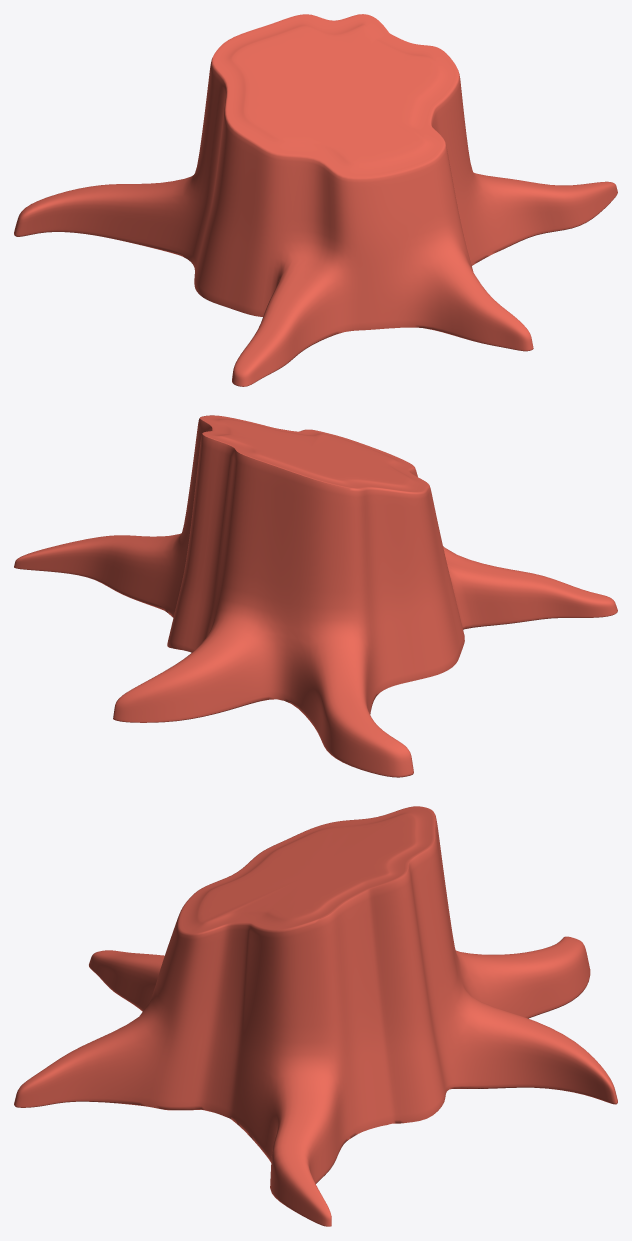
Rendered from Tronco1.fbx.
The picture shows the model from 3 angles, top to bottom: view 1: azimuth 30°, elevation 25°; view 2: azimuth 150°, elevation 25°; view 3: azimuth 270°, elevation 25°; orthographic projection. The views are drawn at different scales.
Parts seen in each view (by area): view 1: Cylinder.005; view 2: Cylinder.005; view 3: Cylinder.005.
Part boxes in pixels (x1,y1,x2,y2): Cylinder.005: [14, 14, 617, 386]; Cylinder.005: [14, 415, 617, 777]; Cylinder.005: [14, 806, 617, 1226].
Size of the model in its own units: 205 by 83.58 by 191.
